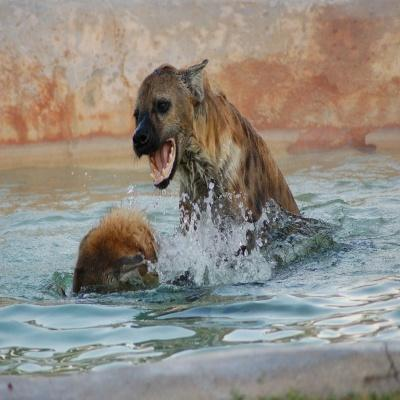hyenas: (124, 29, 399, 277)
